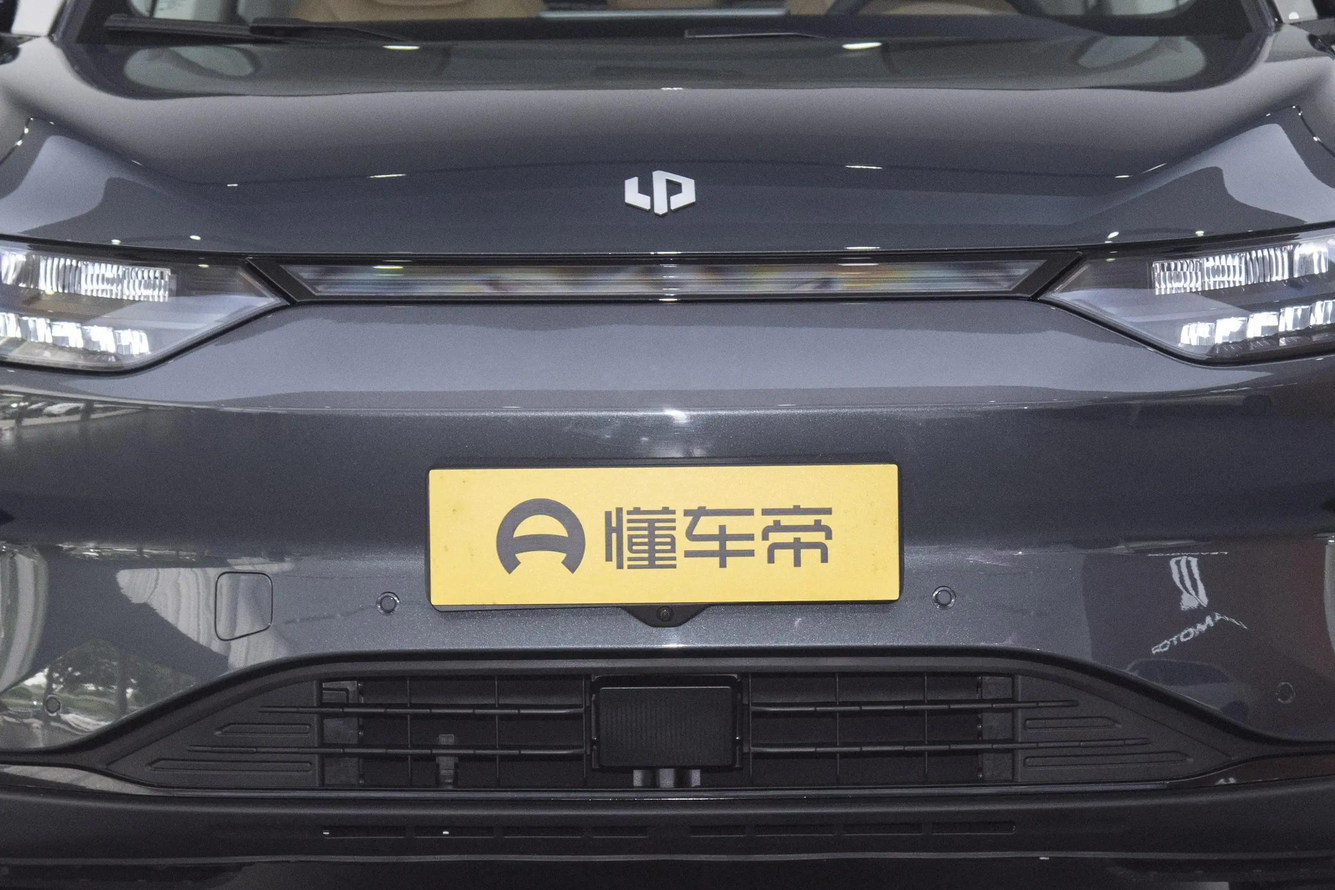LEAPMOTOR: (623, 169, 698, 217)
